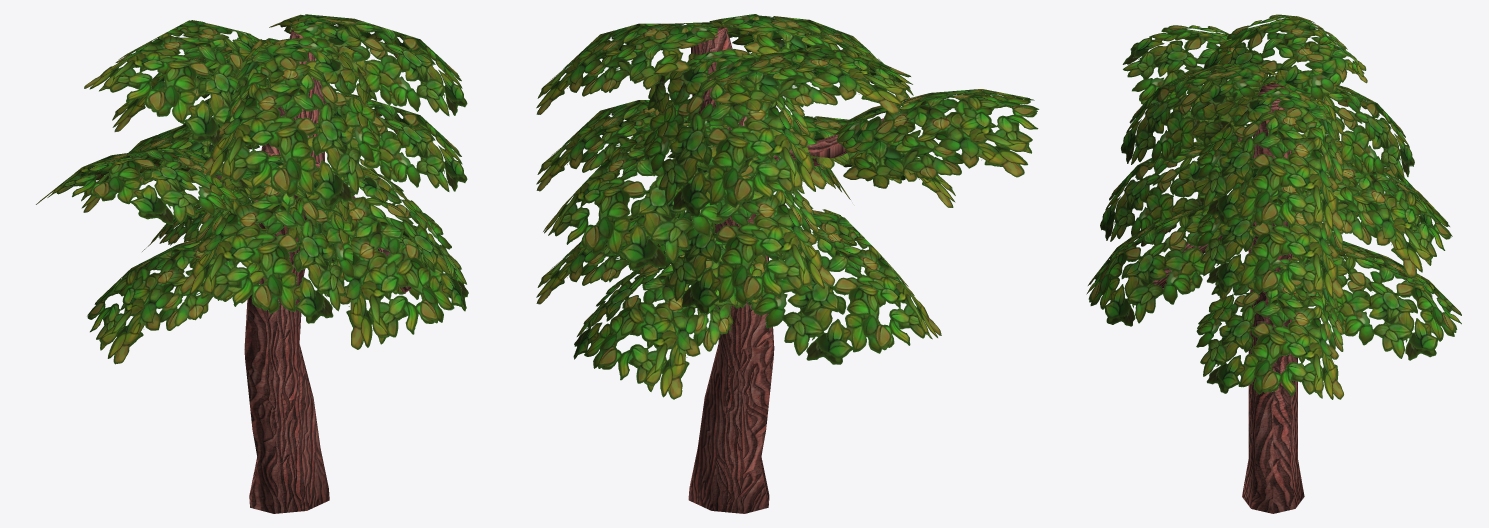
Rendered from tree1.fbx.
3 views of the same model, side by side, from view 1: azimuth 30°, elevation 25°; view 2: azimuth 150°, elevation 25°; view 3: azimuth 270°, elevation 25° (orthographic). The views are drawn at different scales.
Parts seen in each view (by area): view 1: U3DMesh; view 2: U3DMesh; view 3: U3DMesh.
Boxes of the visible parts, x1,y1,x2,y2 form: U3DMesh: (36, 14, 468, 513); U3DMesh: (536, 14, 1039, 513); U3DMesh: (1086, 14, 1461, 513).
Size of the model in its own units: 25.62 by 24.31 by 20.53.
Materials: 2 (2 with a texture image).
